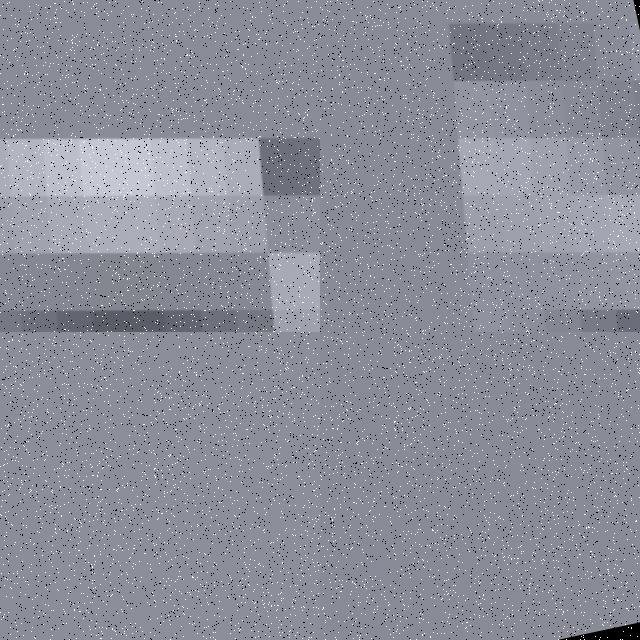drone: (0, 0, 320, 332), (320, 0, 640, 332), (320, 332, 640, 640)
